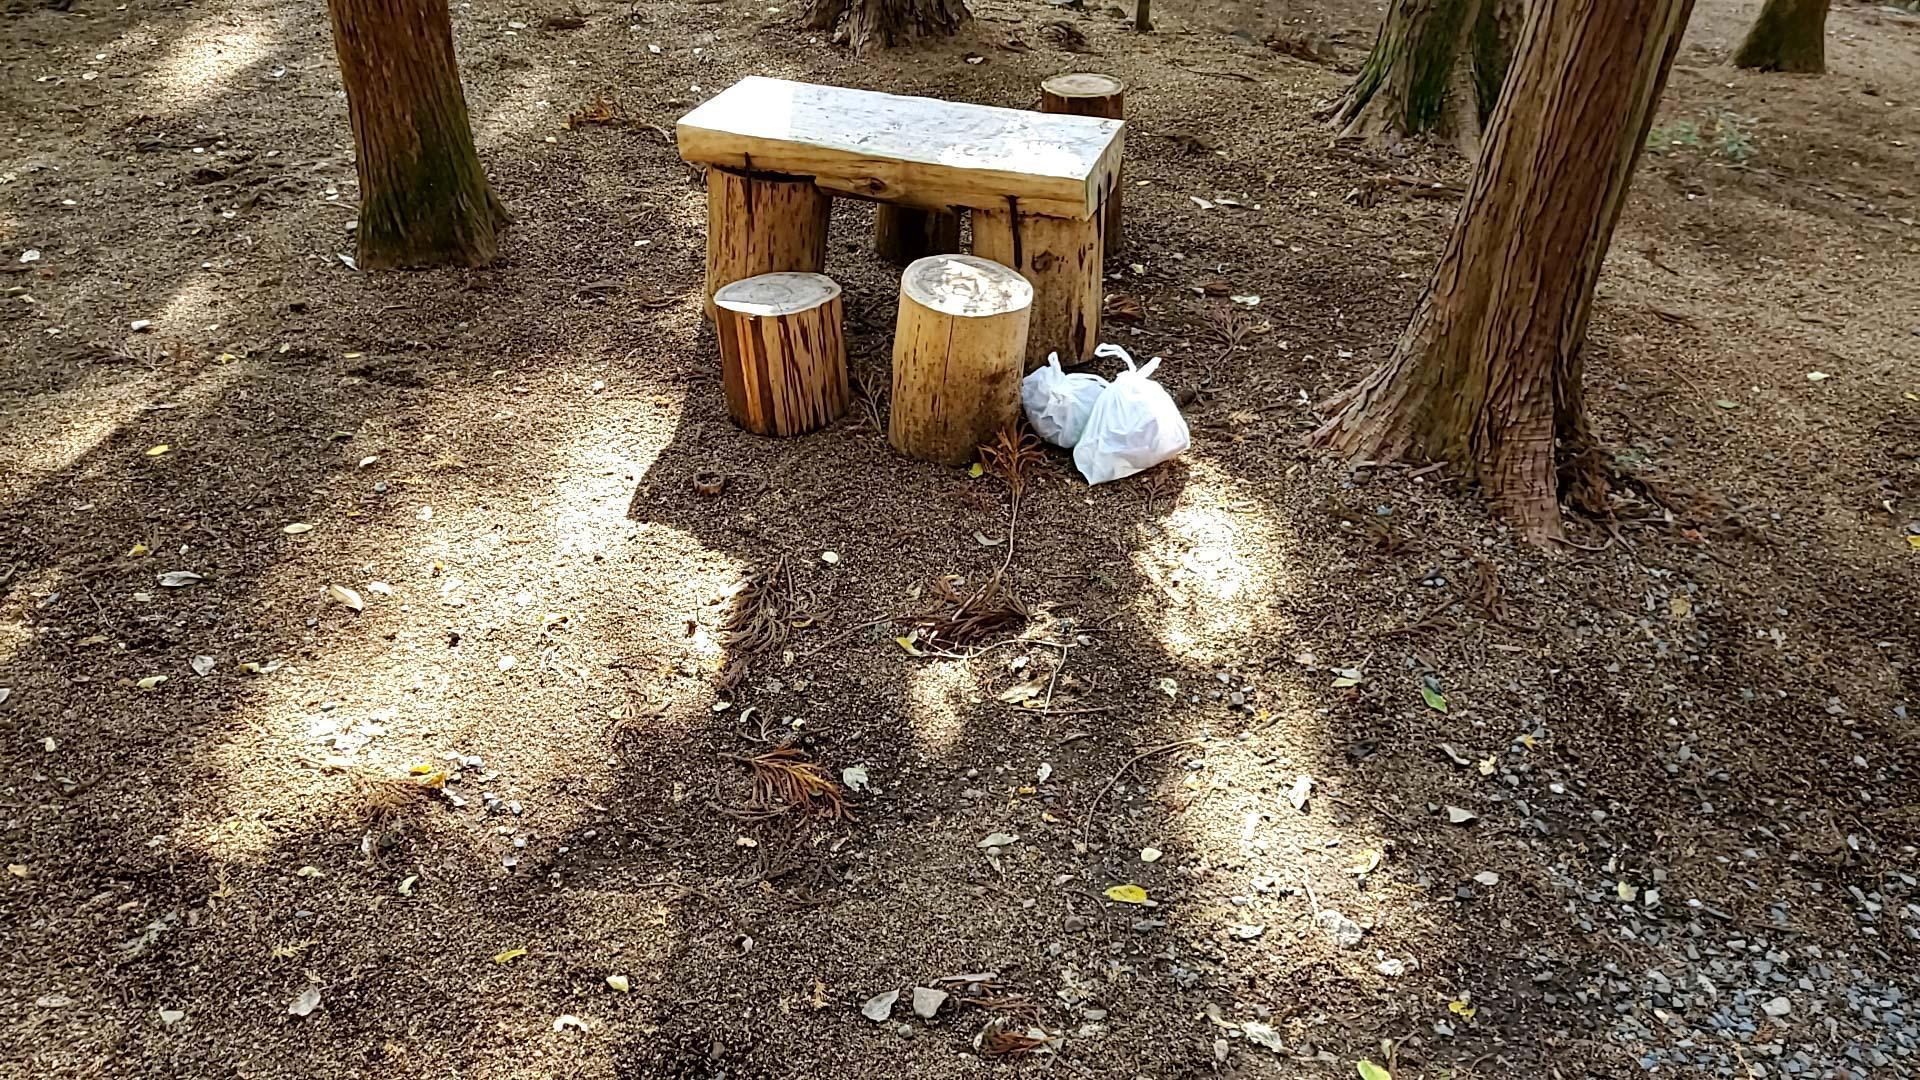white_bag: (1069, 334, 1207, 493), (1011, 340, 1120, 456)
